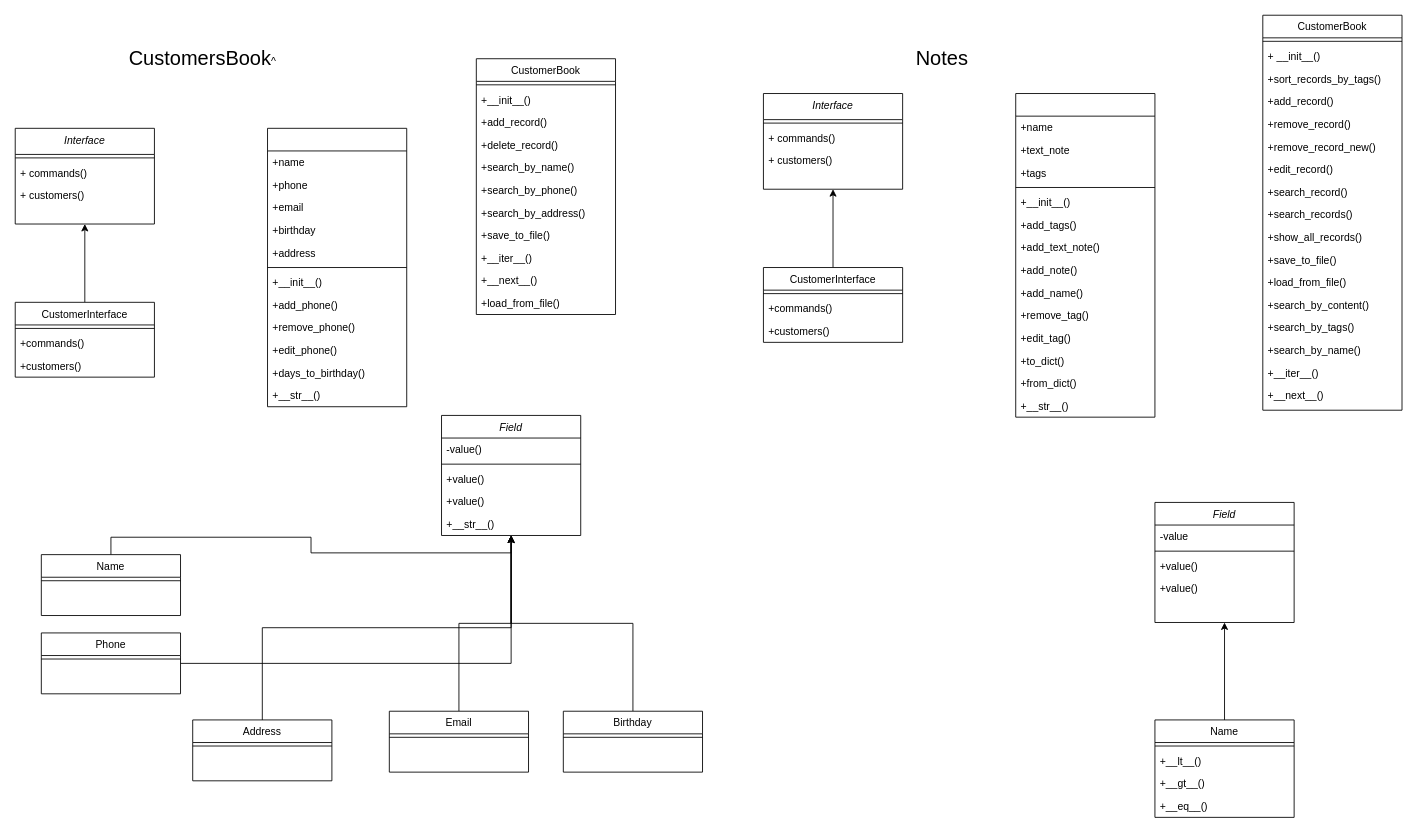
Some shapes in this 1417 by 833 pixel diagram are drawn without their labels. Each missing label, with the box of its shape:
Record: (267, 127, 407, 407)
RecordNote: (1015, 93, 1155, 417)
